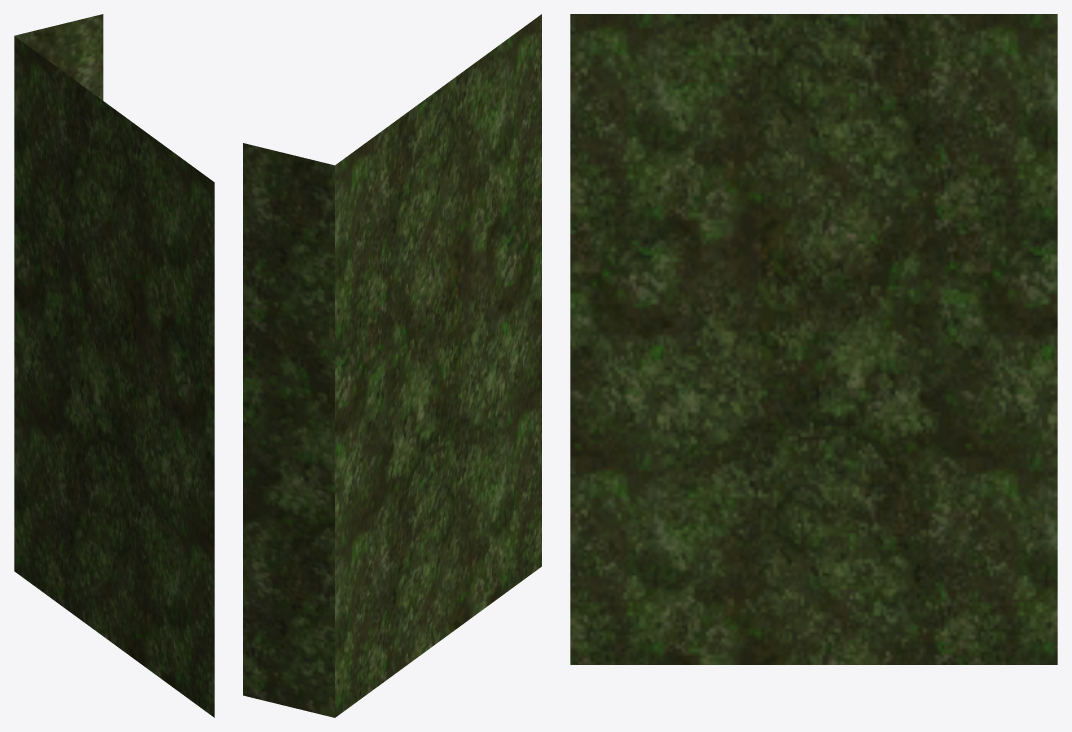
Rendered from OVERHILL_A_01_OBJECT92.fbx.
3 views of the same model, side by side, from view 1: azimuth 30°, elevation 25°; view 2: azimuth 150°, elevation 25°; view 3: azimuth 270°, elevation 25° (orthographic). The views are drawn at different scales.
Visible parts, largest first — view 1: OVERHILL_A_01_OBJECT92; view 2: OVERHILL_A_01_OBJECT92; view 3: OVERHILL_A_01_OBJECT92.
Part boxes in pixels (bbox=[...]): OVERHILL_A_01_OBJECT92: bbox=[14, 14, 214, 717]; OVERHILL_A_01_OBJECT92: bbox=[243, 14, 541, 717]; OVERHILL_A_01_OBJECT92: bbox=[570, 14, 1057, 664].
Bounding box in the file's own units: 8373 × 48105 × 32639.
1 material, 1 textured.
